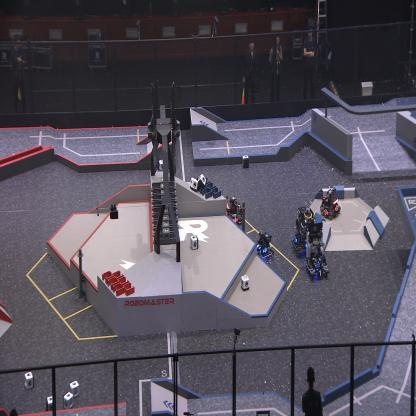car: (304, 222, 330, 280), (291, 206, 315, 256), (224, 193, 244, 226), (320, 188, 340, 220), (254, 231, 273, 262)
